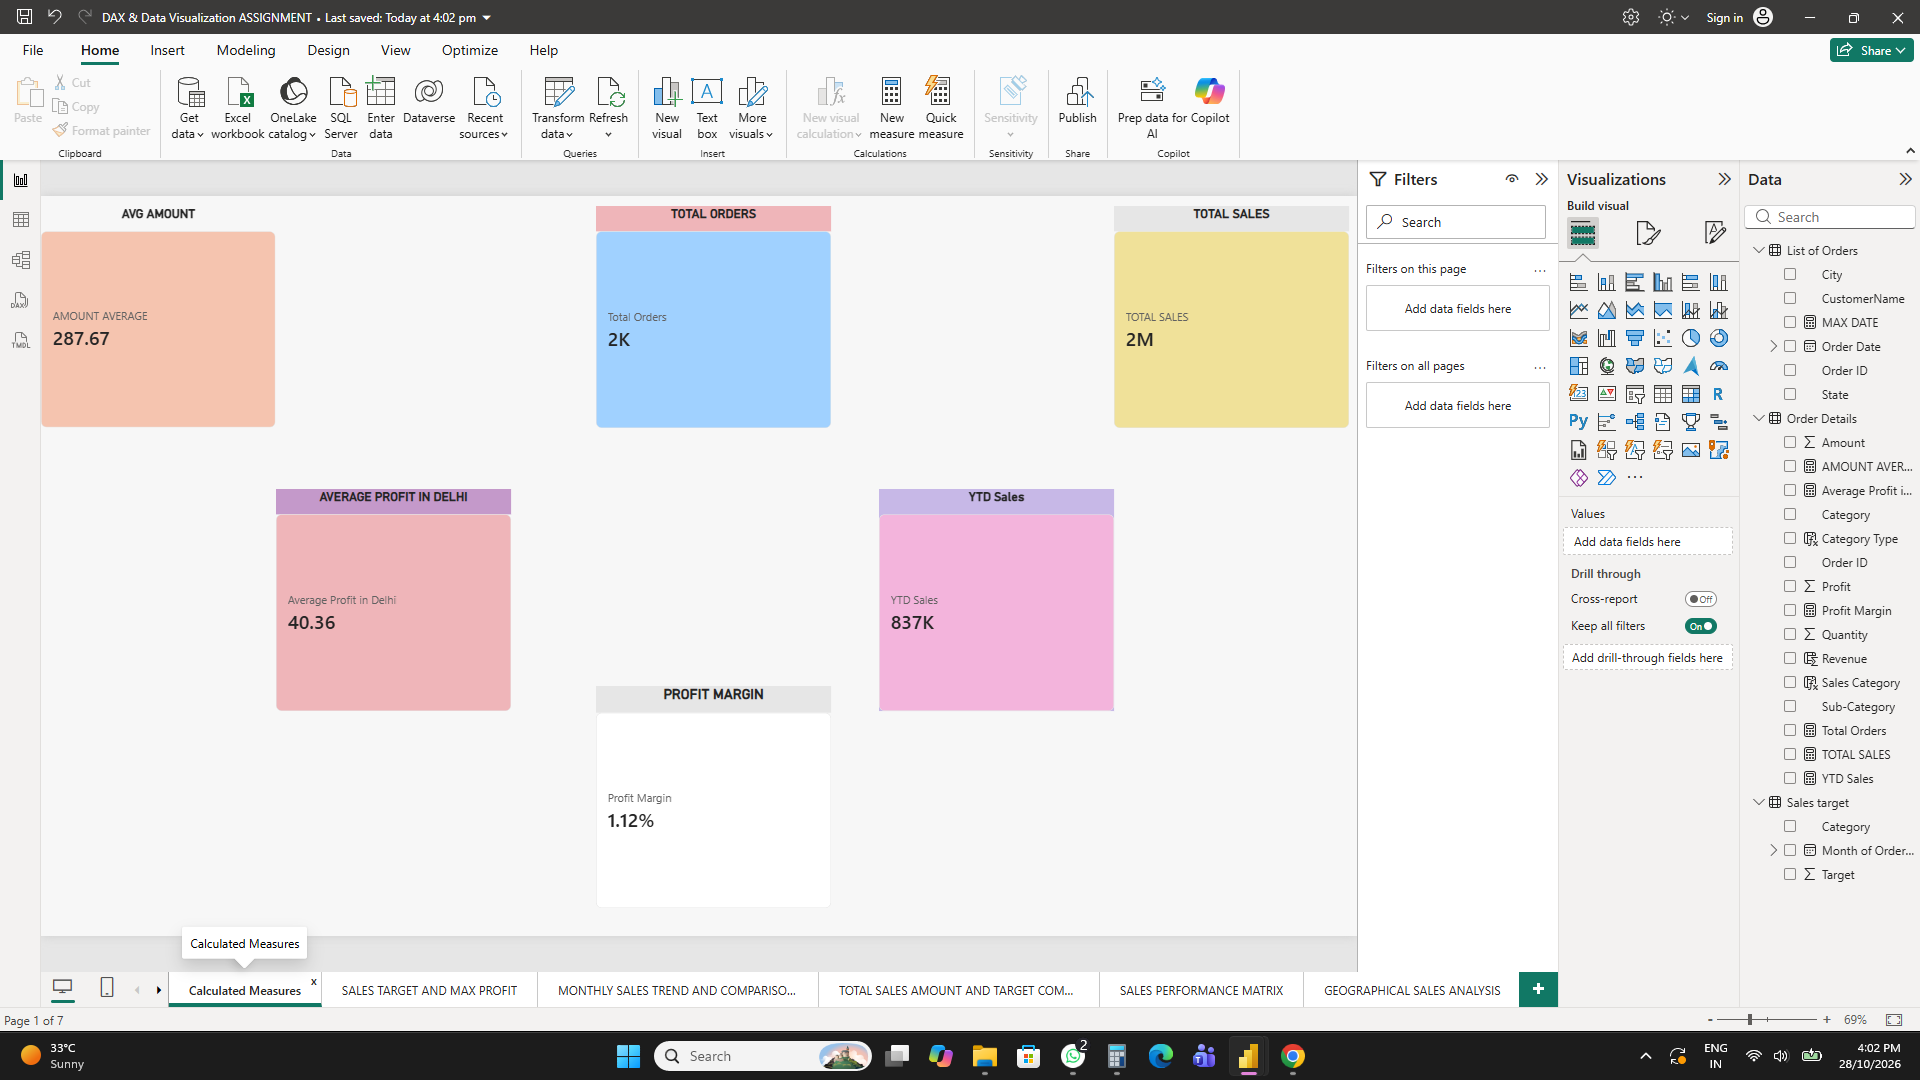

The page's visual inventory and layout, read from the dashboard file:
{"tool":"powerbi","page":{"name":"Calculated Measures","canvas":[1920,1080],"ordinal":0},"visuals":[{"type":"cardVisual","title":"AVG AMOUNT","fields":{"Data":["Order Details .AMOUNT AVERAGE"]},"box":[0,14.6,342.9,323.9],"z":0},{"type":"cardVisual","title":"TOTAL ORDERS","fields":{"Data":["Order Details .Total Orders"]},"box":[809.7,14.6,343,324],"z":1000},{"type":"cardVisual","title":"AVERAGE PROFIT IN DELHI","fields":{"Data":["Order Details .Average Profit in Delhi"]},"box":[342.9,427.5,343,324],"z":2000},{"type":"cardVisual","title":"TOTAL SALES","fields":{"Data":["Order Details .TOTAL AMOUNT"]},"box":[1565.5,14.6,343,324],"z":3000},{"type":"cardVisual","title":"YTD Sales","fields":{"Data":["Order Details .YTD Sales"]},"box":[1222.6,427.5,343,324],"z":4000},{"type":"cardVisual","title":"PROFIT MARGIN","fields":{"Data":["Order Details .Profit Margin"]},"box":[809.7,714.9,343,324],"z":5000}]}

Visuals, with their boxes on the page's 1920x1080 design canvas (x1, y1, x2, y2). These are canvas units, not pixel positions in the 1920x1080 screenshot, which may show the page scaled, cropped or inside an application window:
"AVG AMOUNT" cardVisual: {"x1": 0, "y1": 15, "x2": 343, "y2": 338}
"TOTAL ORDERS" cardVisual: {"x1": 810, "y1": 15, "x2": 1153, "y2": 339}
"AVERAGE PROFIT IN DELHI" cardVisual: {"x1": 343, "y1": 428, "x2": 686, "y2": 752}
"TOTAL SALES" cardVisual: {"x1": 1566, "y1": 15, "x2": 1908, "y2": 339}
"YTD Sales" cardVisual: {"x1": 1223, "y1": 428, "x2": 1566, "y2": 752}
"PROFIT MARGIN" cardVisual: {"x1": 810, "y1": 715, "x2": 1153, "y2": 1039}
